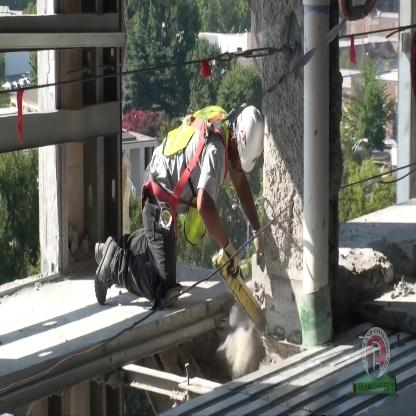helmet: (217, 103, 272, 181)
